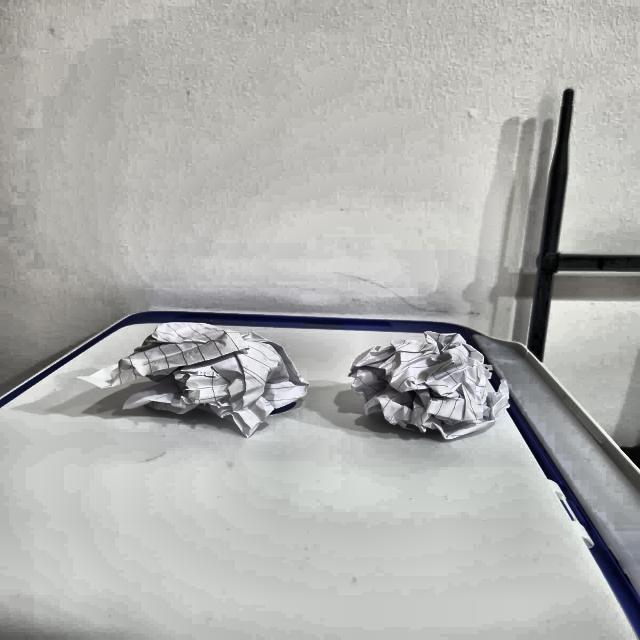Paper: (127, 319, 308, 428), (342, 329, 503, 428)
